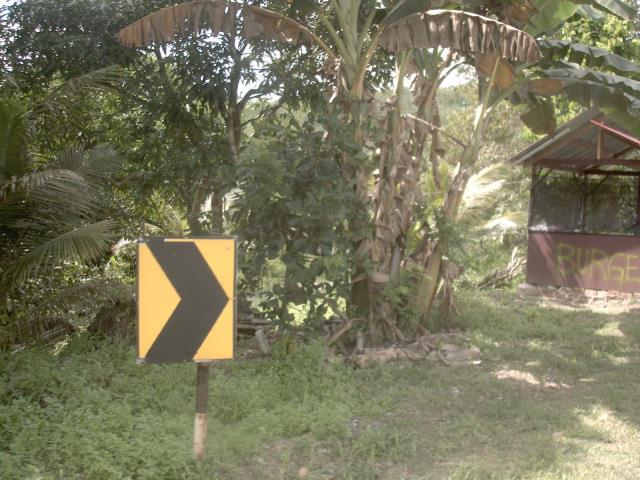traffic_sign: (119, 224, 251, 375)
